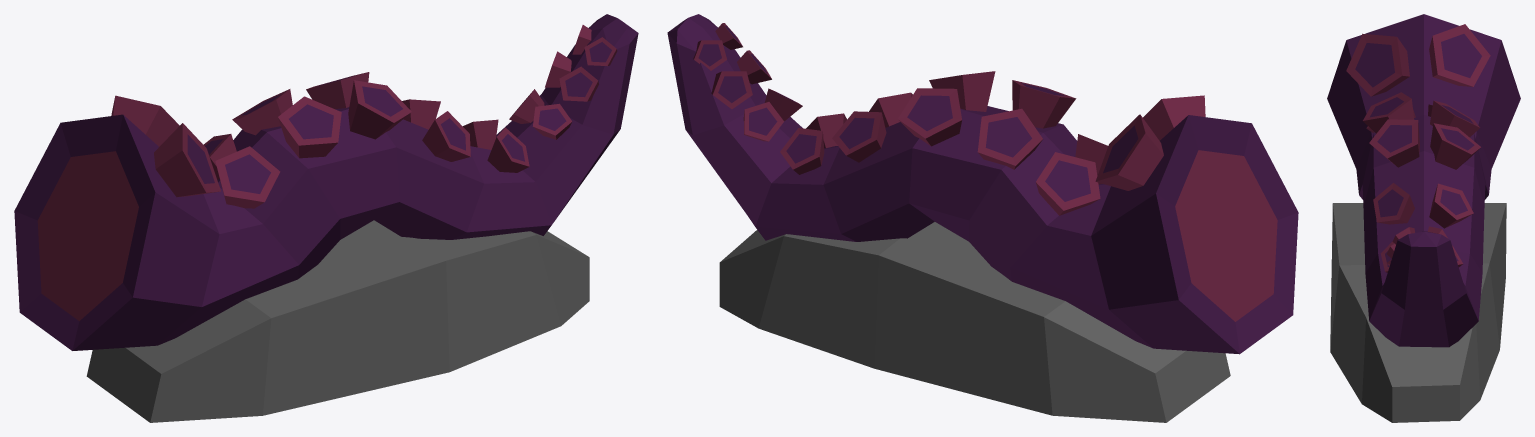
The model's file is Sushi_NigiriOctopus.obj.
3 renders of one model, left to right at view 1: azimuth 30°, elevation 25°; view 2: azimuth 150°, elevation 25°; view 3: azimuth 270°, elevation 25°, orthographic. The views are drawn at different scales.
Parts seen in each view (by area): view 1: Sushi_NigiriOctopus_Cube.018; view 2: Sushi_NigiriOctopus_Cube.018; view 3: Sushi_NigiriOctopus_Cube.018.
Boxes of the visible parts, box(x1,y1,x2,y2) form: Sushi_NigiriOctopus_Cube.018: box(14, 14, 638, 422); Sushi_NigiriOctopus_Cube.018: box(667, 14, 1298, 422); Sushi_NigiriOctopus_Cube.018: box(1327, 14, 1520, 422).
Size of the model in its own units: 0.762 by 0.3505 by 0.2673.
